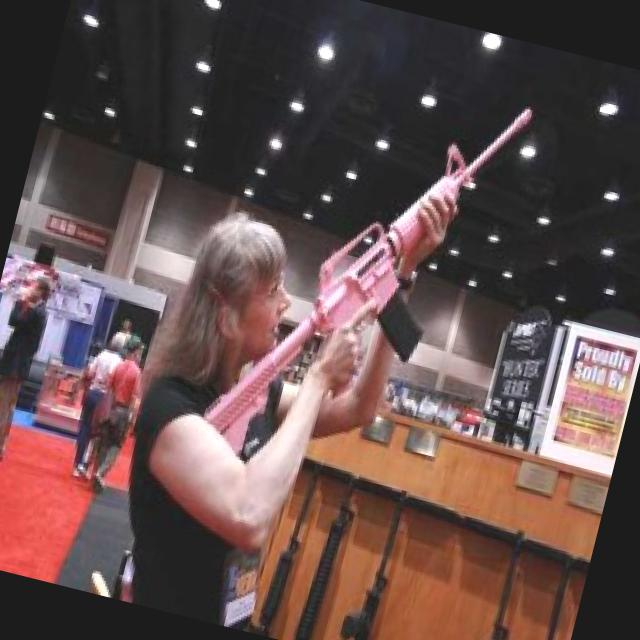long weapon: (178, 80, 570, 478)
